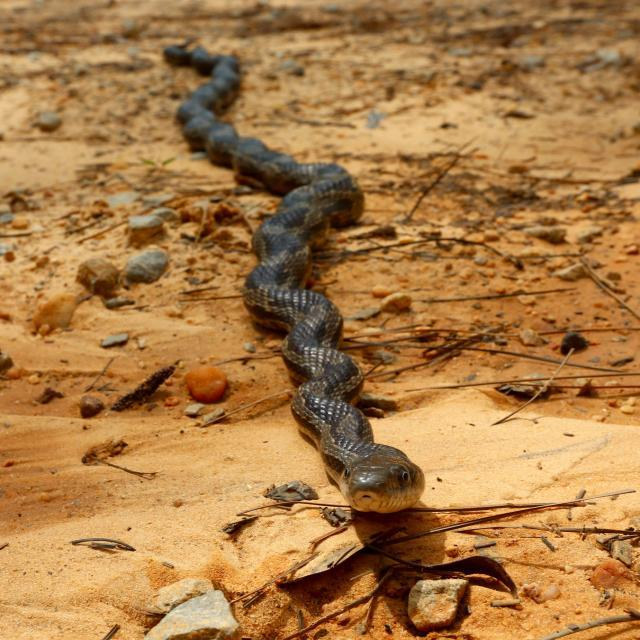Snake: (162, 38, 426, 516)
